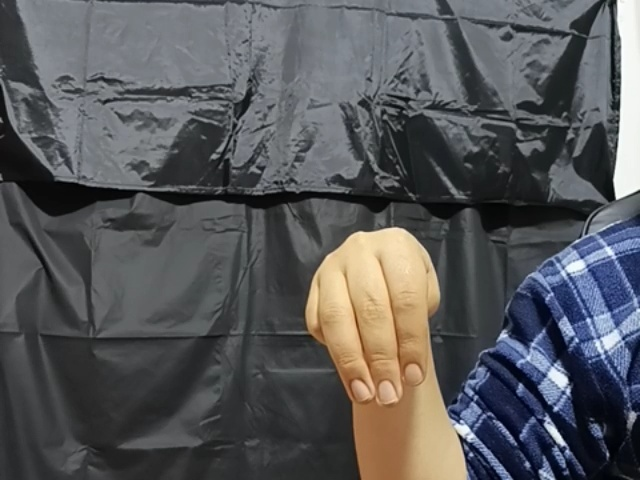M: (303, 226, 443, 408)
